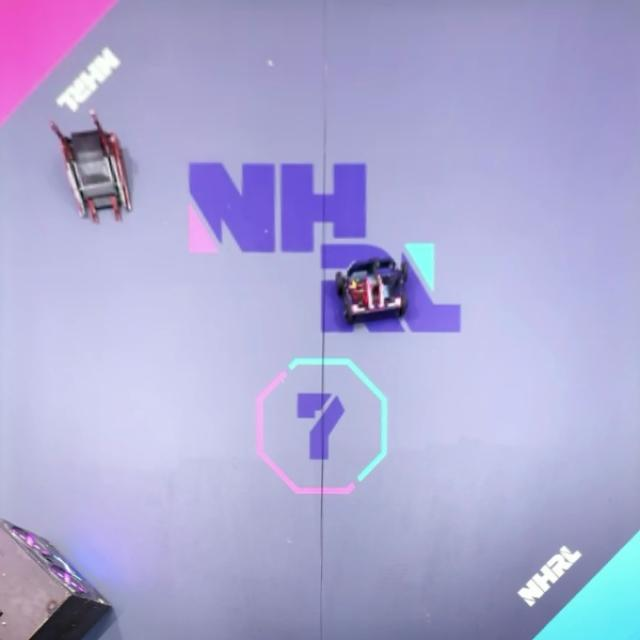housebot: (0, 516, 113, 640)
robot: (51, 110, 133, 223), (334, 254, 412, 321)
